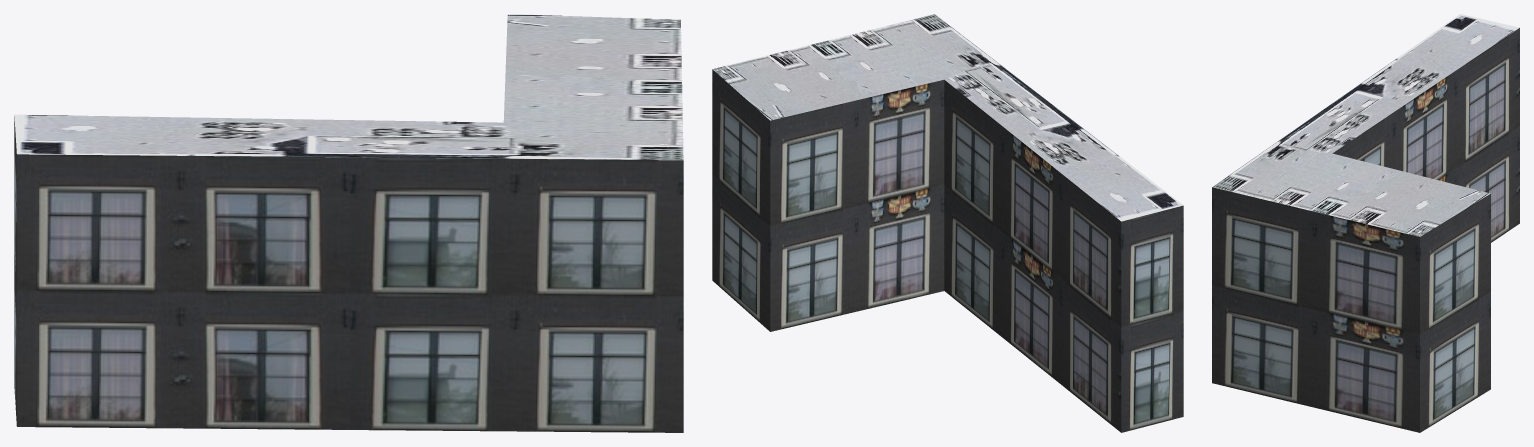
File: ResTex__5215.fbx
The picture shows the model from 3 angles, left to right: view 1: azimuth 30°, elevation 25°; view 2: azimuth 150°, elevation 25°; view 3: azimuth 270°, elevation 25°; orthographic projection. The views are drawn at different scales.
Visible parts, largest first — view 1: CityEngineMaterial_22_m, CityEngineMaterial_8_m; view 2: CityEngineMaterial_22_m, CityEngineMaterial_8_m; view 3: CityEngineMaterial_22_m, CityEngineMaterial_8_m.
Part boxes in pixels (<box>): CityEngineMaterial_22_m: <box>14,116,683,432</box>; CityEngineMaterial_8_m: <box>14,14,683,160</box>; CityEngineMaterial_22_m: <box>712,69,1183,432</box>; CityEngineMaterial_8_m: <box>712,14,1183,221</box>; CityEngineMaterial_22_m: <box>1212,28,1519,432</box>; CityEngineMaterial_8_m: <box>1212,14,1519,236</box>.
Size of the model in its own units: 14.65 by 6 by 8.55.
Materials: 2 (2 with a texture image).
